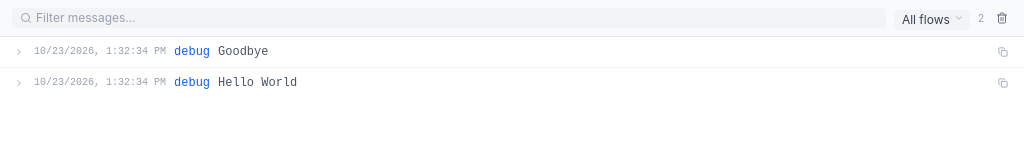
Test case: DebugPanel › filter › filters messages by typing in filter input
Check: the number of elements with test id "debug-message-row" is 2, box [0,37,1023,68]; [0,68,1023,98]
Type "hello" into the field with test id "debug-filter-input" at (457, 18), box [36,10,878,26]
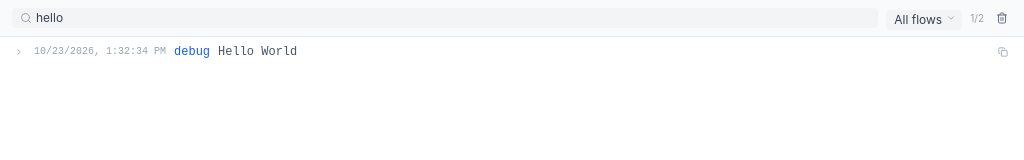
Check: the number of elements with test id "debug-message-row" is 1, box [0,37,1023,67]
